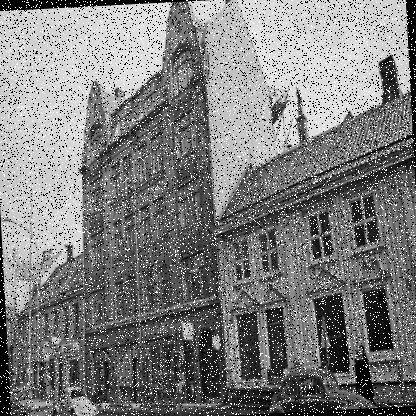Car: (266, 363, 382, 412), (50, 384, 98, 415), (9, 384, 54, 415), (38, 387, 50, 405)
